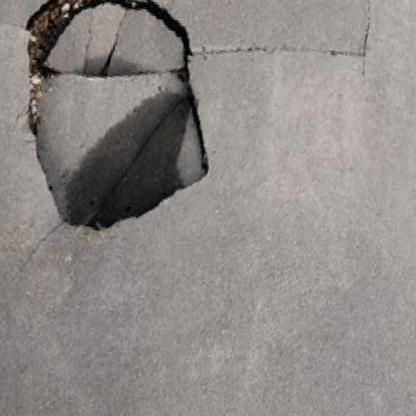pothole: (0, 0, 247, 257)
